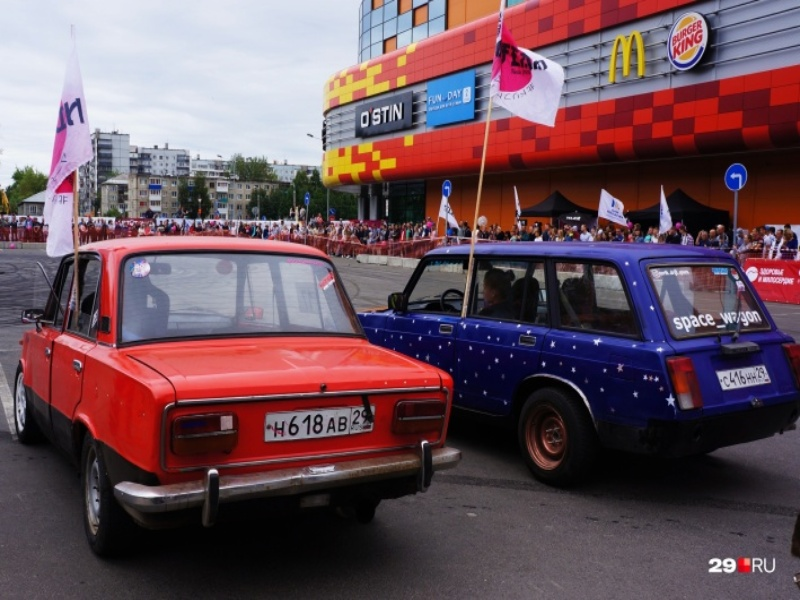car: (12, 236, 462, 556), (357, 241, 800, 483)
person: (483, 268, 511, 306)
plate: (265, 406, 375, 442), (718, 366, 771, 389)
